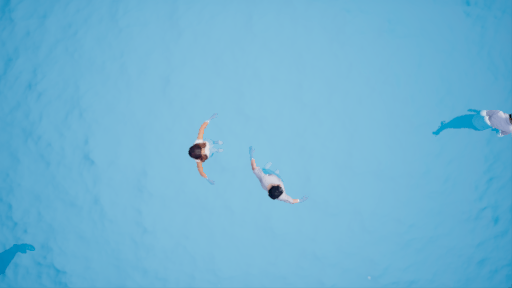person: (178, 108, 229, 186), (424, 98, 512, 140), (249, 147, 306, 209)
